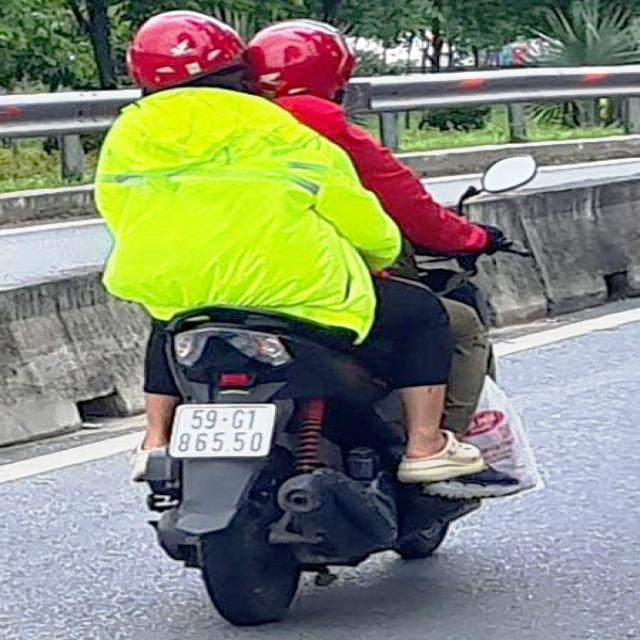license_plate: (175, 406, 277, 456)
